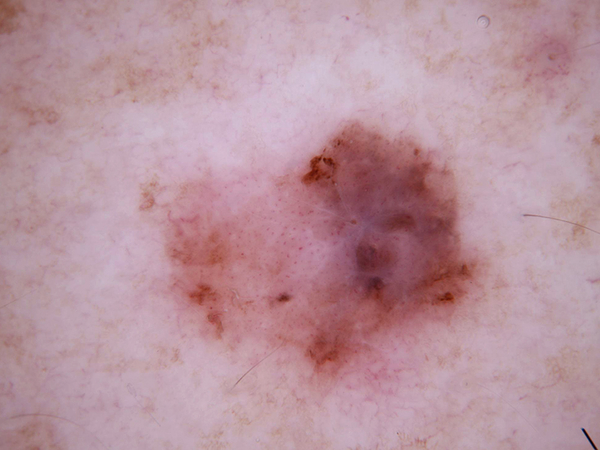Detected Lesion: (188, 129, 474, 368)
